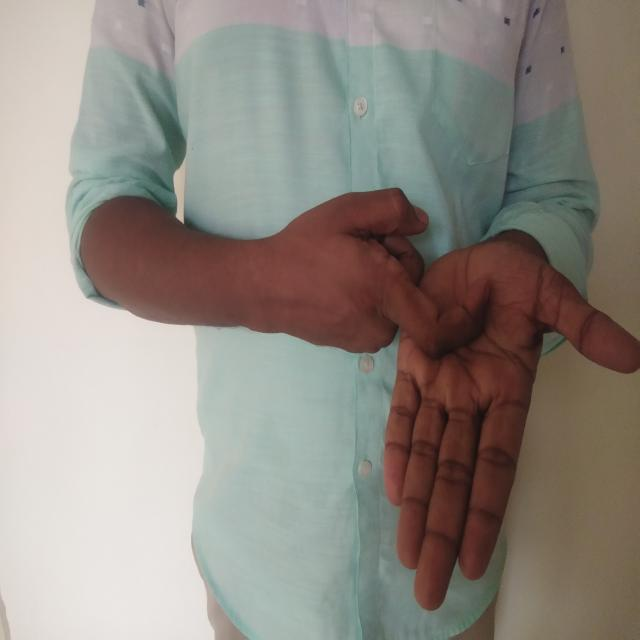R: (240, 166, 640, 622)
